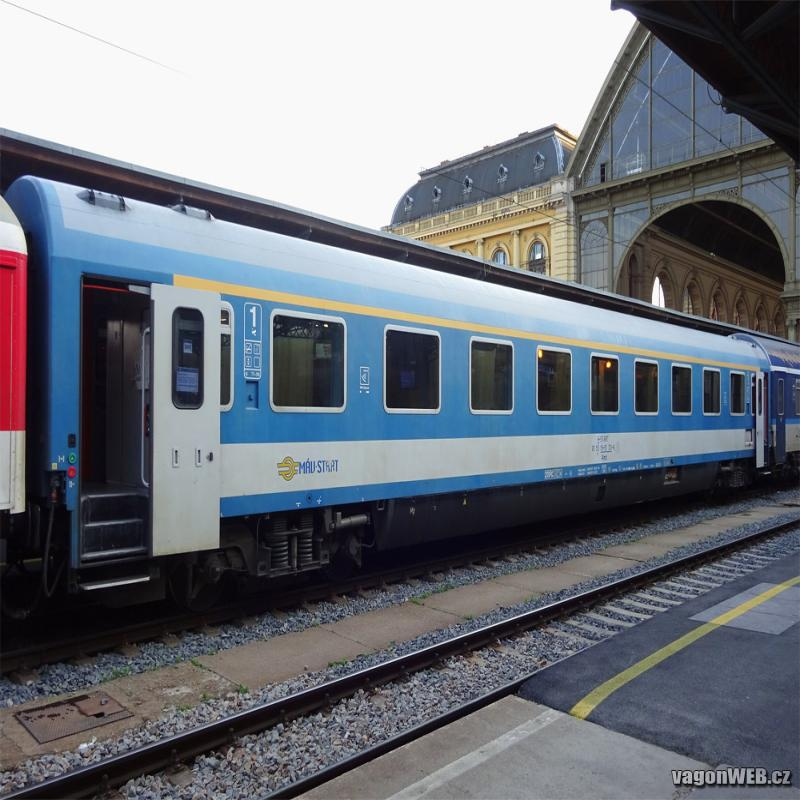train: (6, 176, 771, 644)
